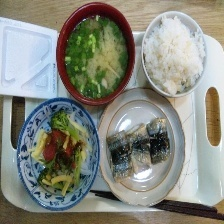rice: (141, 11, 208, 94)
